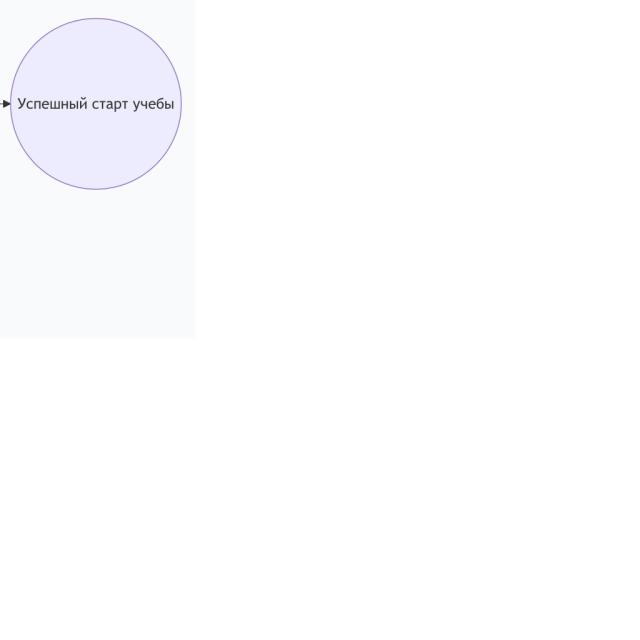circle: (10, 19, 181, 189)
